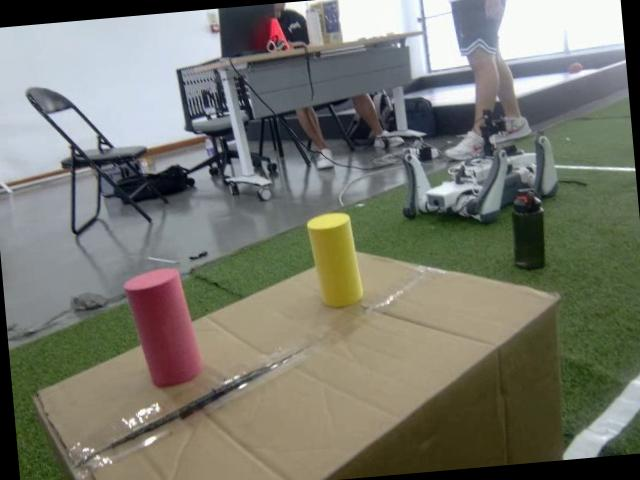red_cylinder: (121, 261, 207, 391)
yellow_cylinder: (304, 210, 366, 311)
